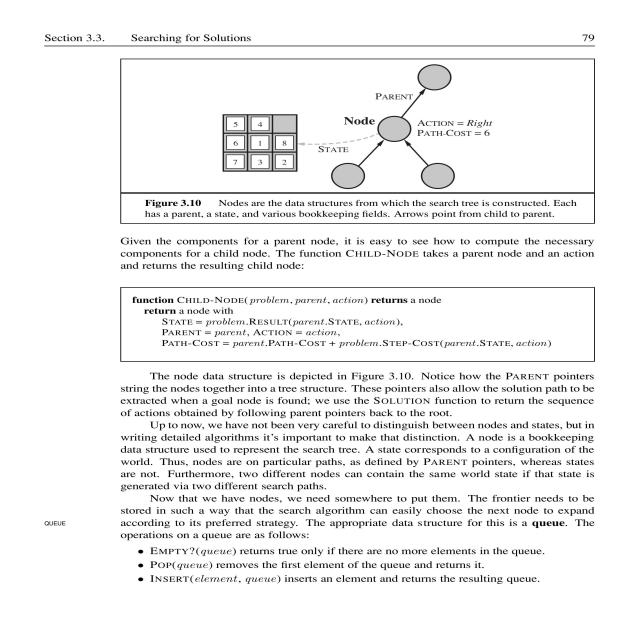diagram: (104, 48, 602, 235)
